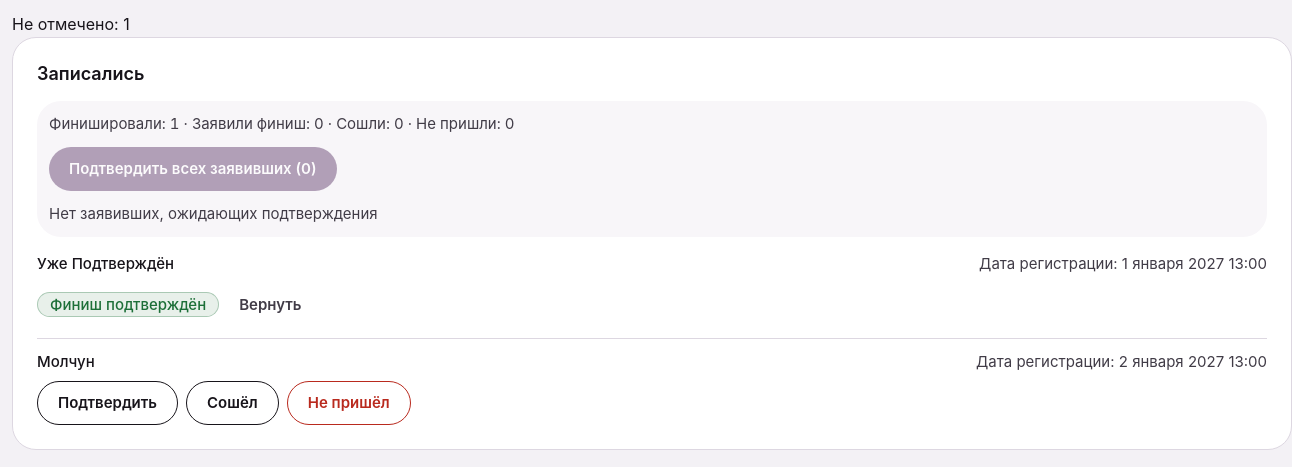
Participants refresh the ride workspace after a mark (CR-189) › turns «Не отмечено: 1» into «Все отмечены» before the finish
Expected: the link "Молчун" is shown, [37,352,95,371]
Expected: the text with test id "frame-chip" reads "Не отмечено: 1", [12,14,130,34]
What coordinates should you click on to do the following:
click the button "Не пришёл"
I would click on:
 (349, 403)
Its box is [287,381,411,425].
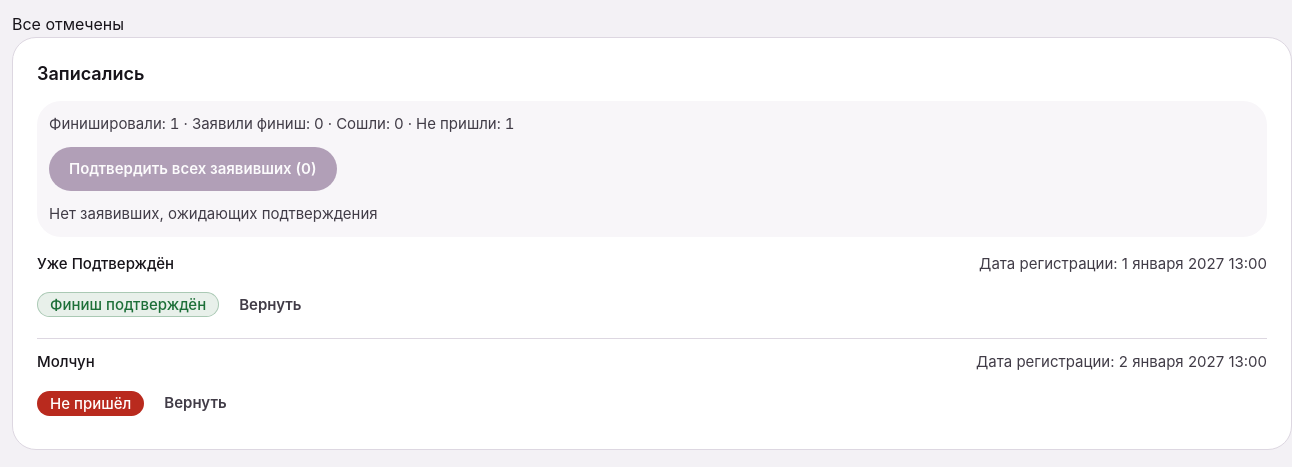
Result: the text with test id "frame-chip" reads "Все отмечены" at [12,14,124,34]
